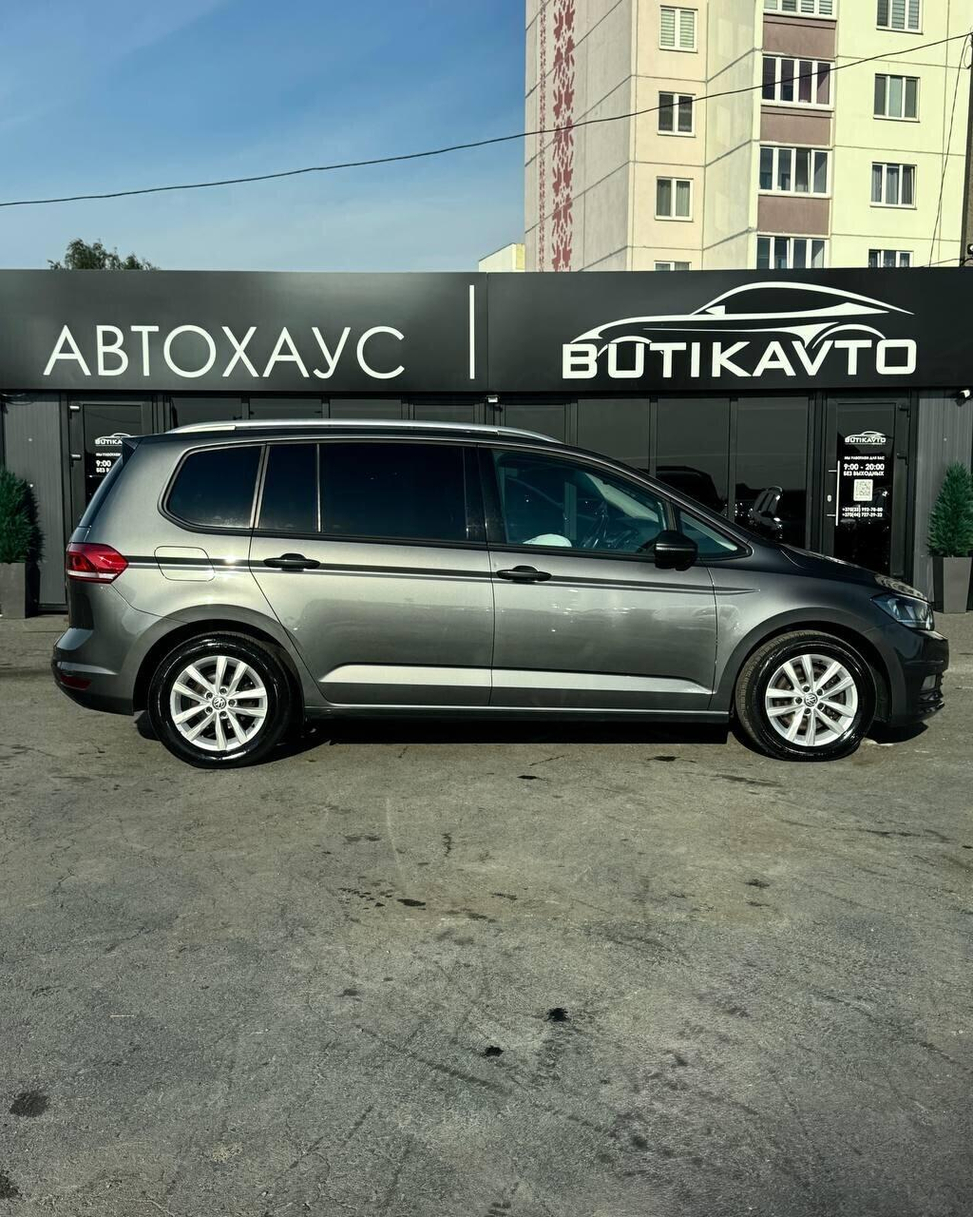Touran_2015: (51, 418, 952, 772)
